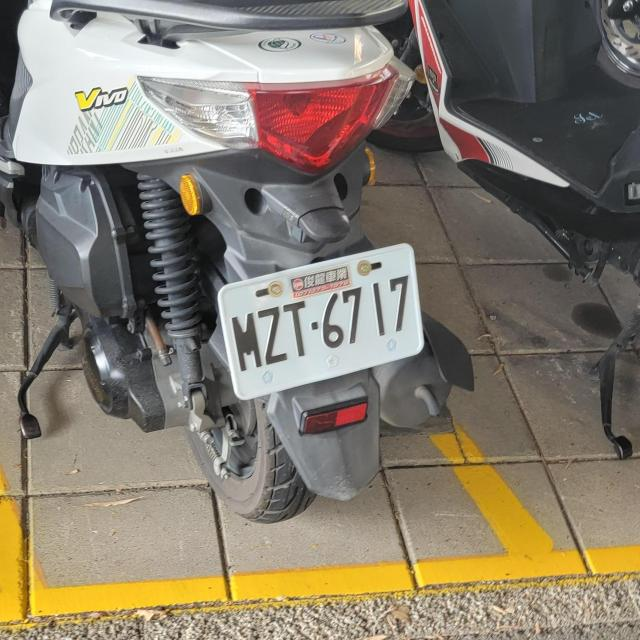W: (212, 242, 432, 401)
